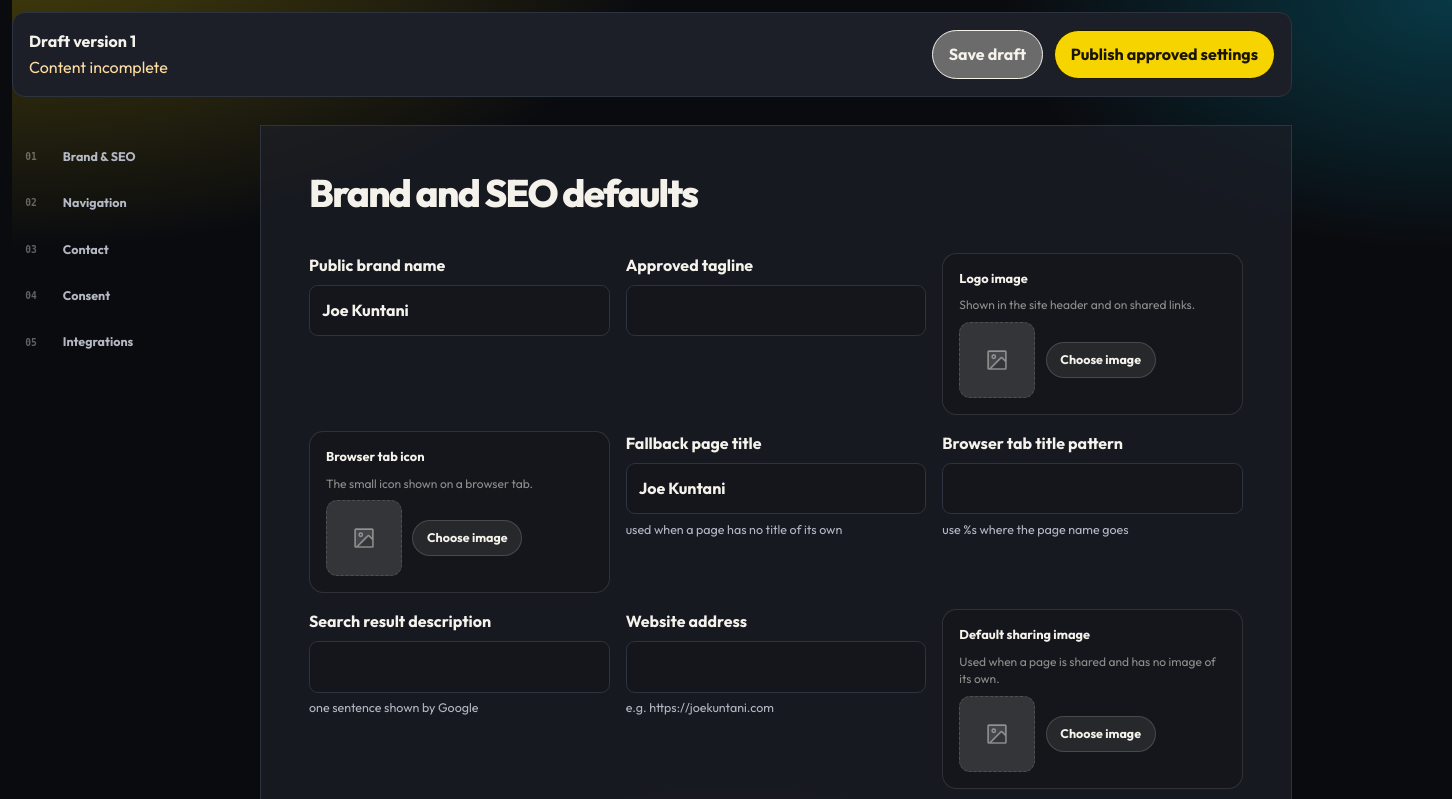
says so when the network drops mid-save
Expected: the field labelled "Public brand name" is shown, [309, 285, 610, 336]
Click the button "Save draft": click(988, 55) [932, 30, 1043, 79]
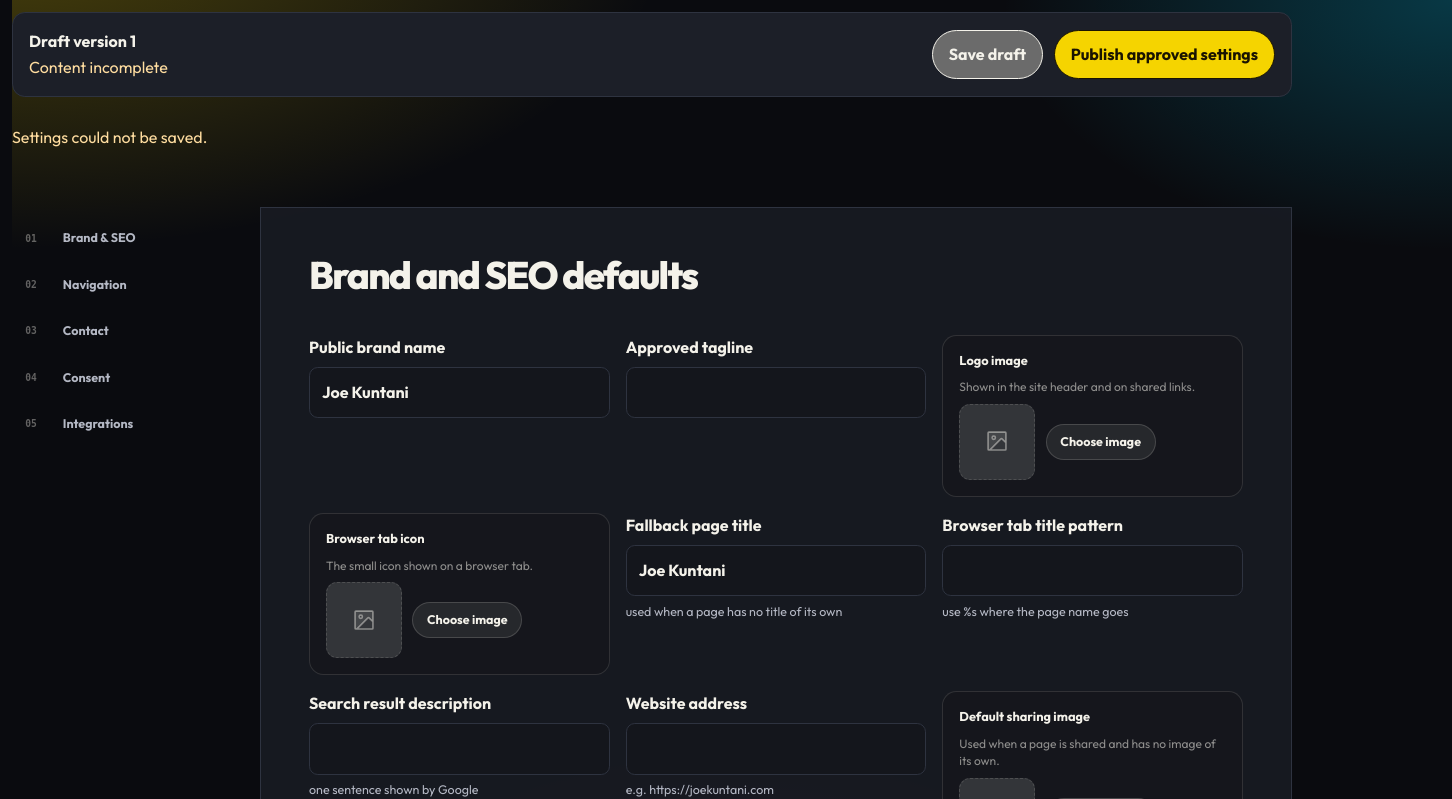
Expected: the text "Settings could not be saved." is shown, [12, 127, 207, 147]
